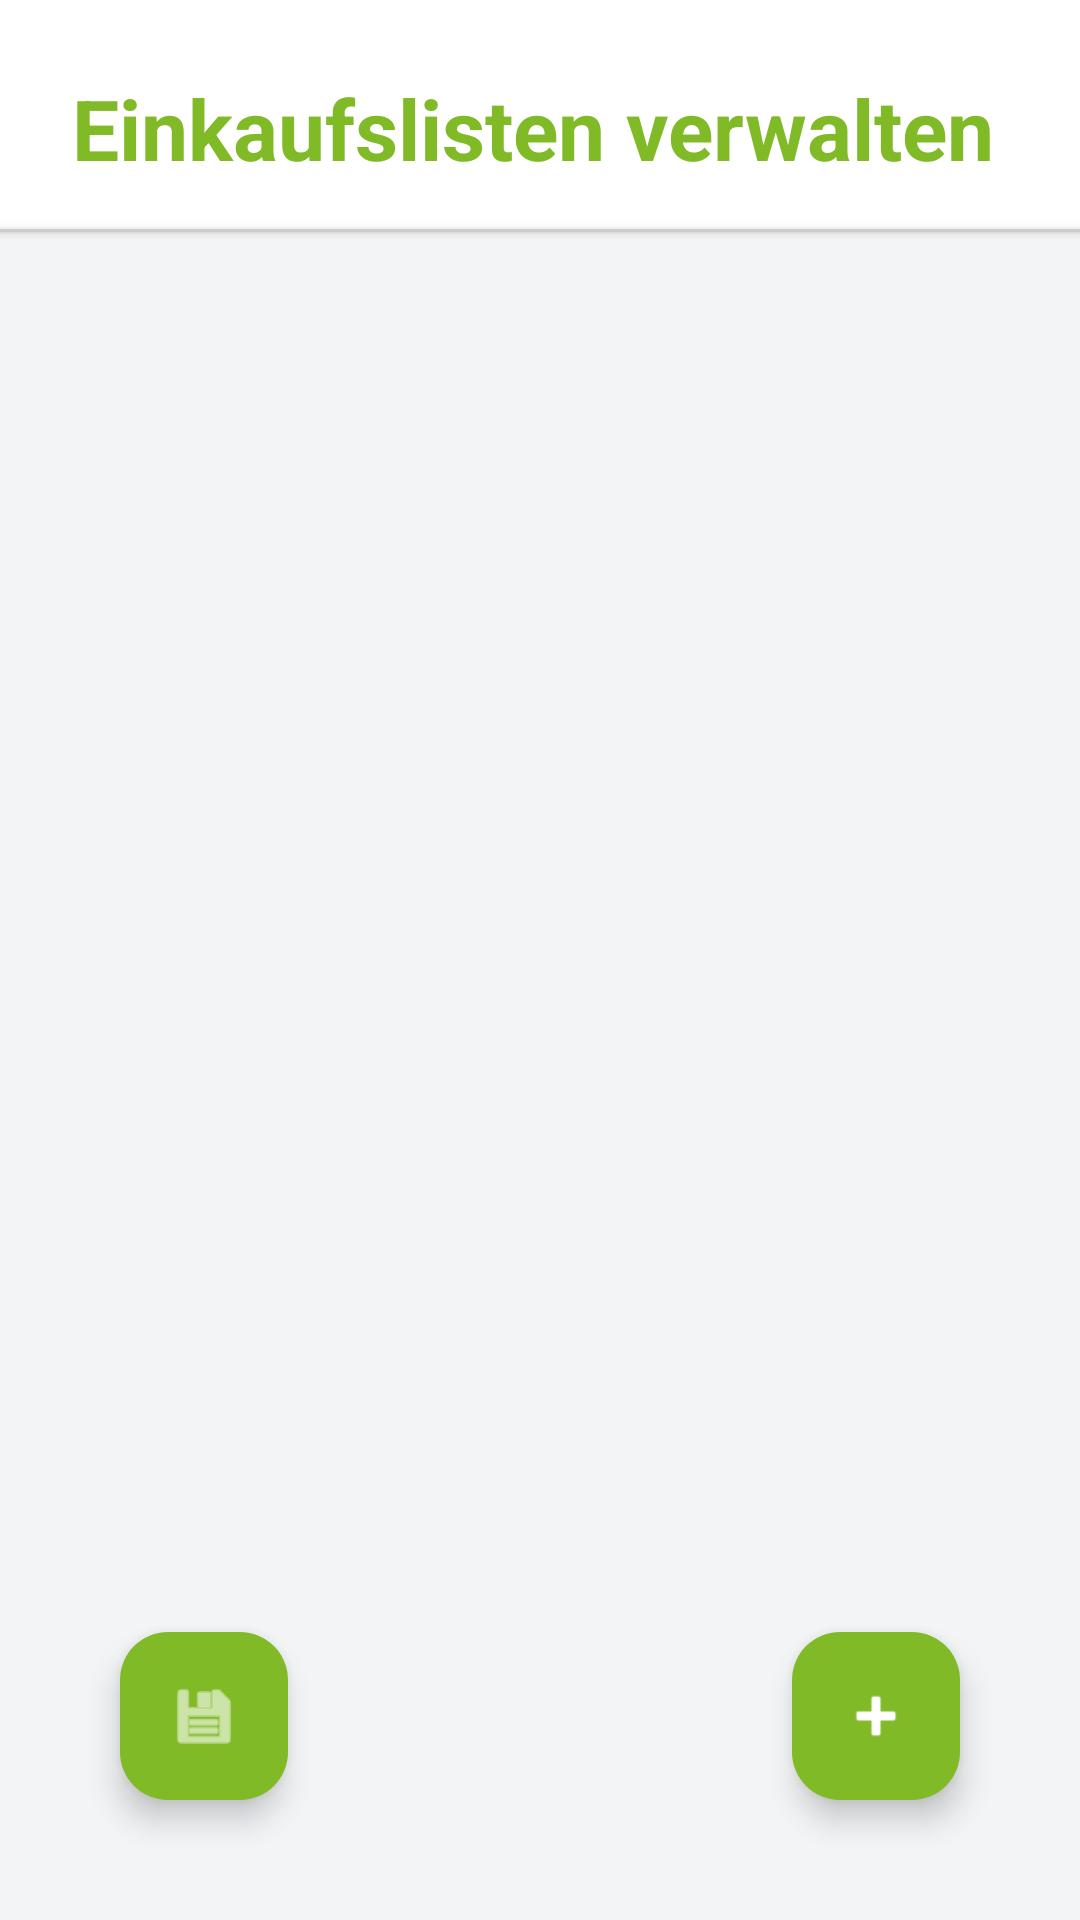

Icon bounding boxes for this 1080x1920 phone screenshot, format (x1, y1, x2, y2):
Neue Einkaufsliste: (792, 1632, 960, 1800)
